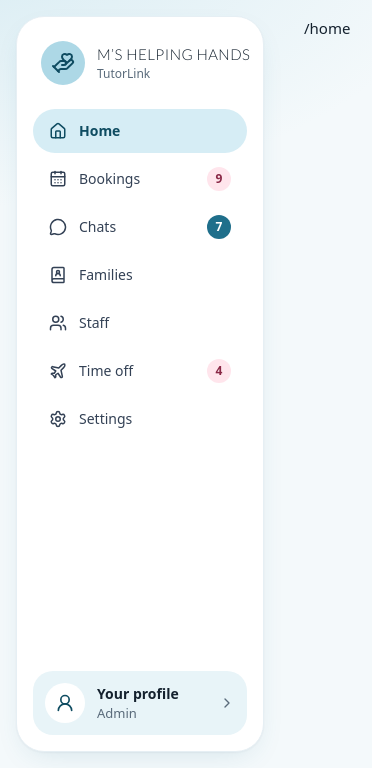
Test: app shell from 1024px › names the card Your profile when the person fails to load
Click the button "Your profile Admin" at x=140, y=703, box [33,671,247,735]
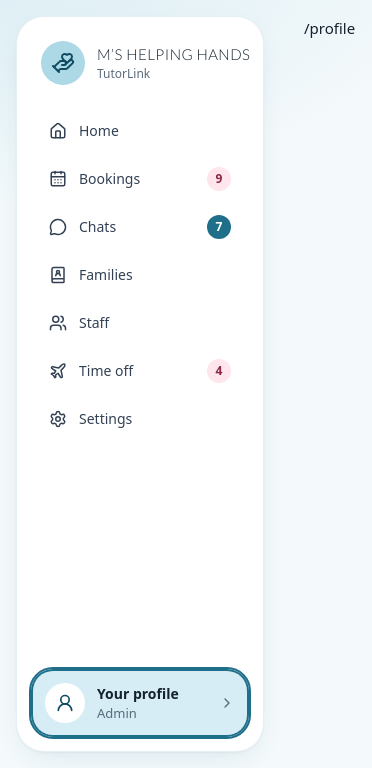
Expected: the text with test id "path" reads "/profile", [304,18,355,38]
